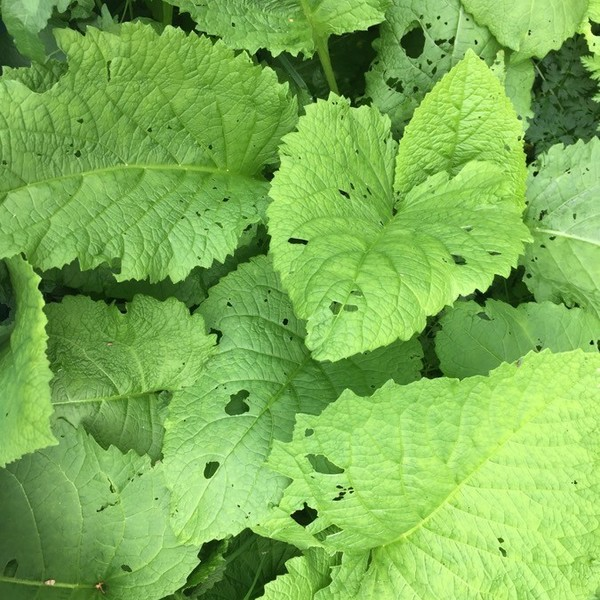obstacle: (267, 346, 588, 577), (14, 17, 254, 288), (275, 84, 504, 363)
